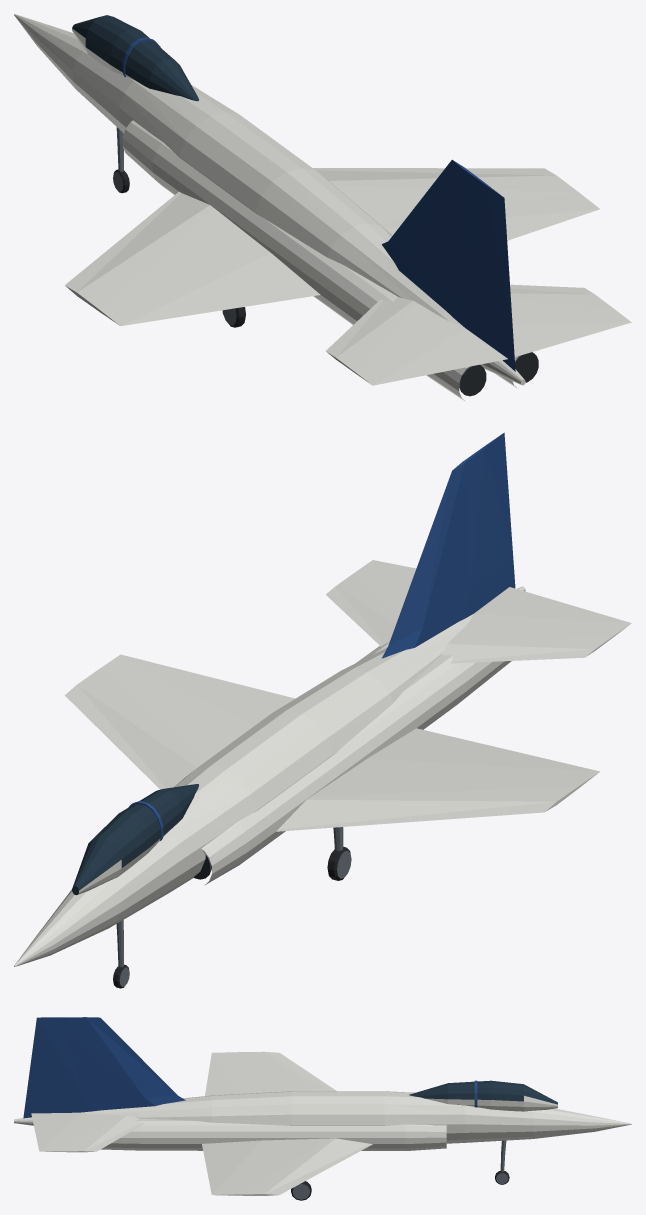
3 views of the same model, one above another, from view 1: azimuth 30°, elevation 25°; view 2: azimuth 150°, elevation 25°; view 3: azimuth 270°, elevation 25° (orthographic). The views are drawn at different scales.
Visible parts, largest first — view 1: airframe, gear; view 2: airframe, gear; view 3: airframe, gear.
Boxes of the visible parts, bbox=[...] form: airframe: bbox=[14, 14, 631, 401]; gear: bbox=[113, 127, 245, 327]; airframe: bbox=[14, 432, 631, 966]; gear: bbox=[113, 827, 351, 988]; airframe: bbox=[14, 1017, 631, 1195]; gear: bbox=[291, 1140, 509, 1200].
Bounding box in the file's own units: 7.7 × 4.21 × 14.14.
